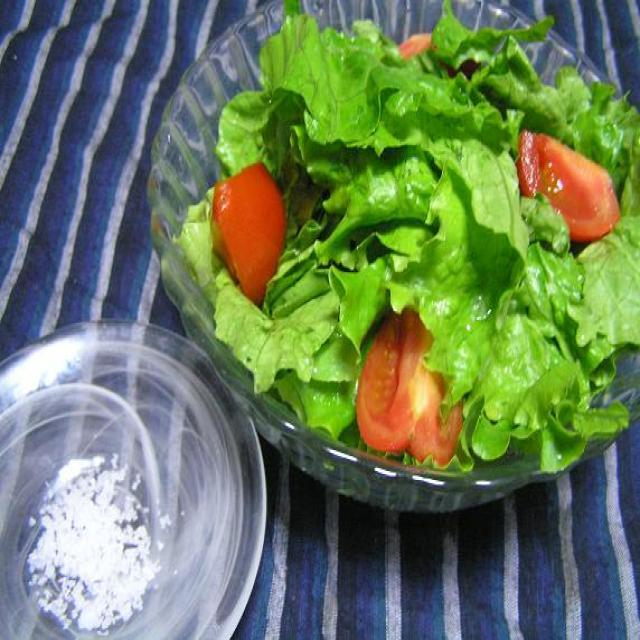Green Salad: (203, 13, 623, 448)
